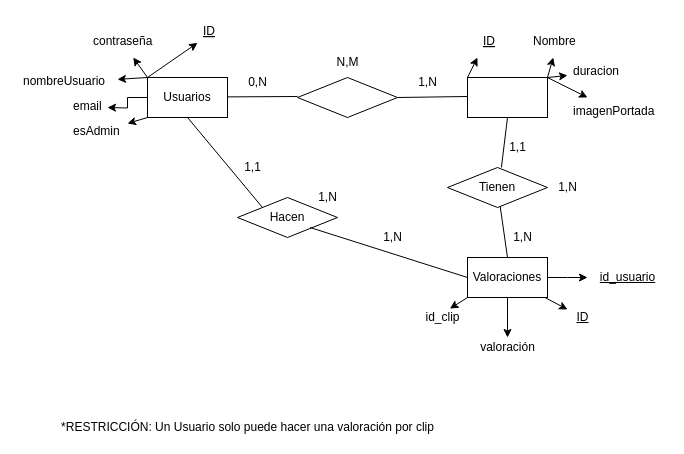
Some shapes in this 684 by 454 pixel diagram are drawn without their labels. Here are the shapes that lost their labels. From the top down, the centre of each, then its label:
[347,97]: Miran
[507,97]: Clips (Clipmetraje)
